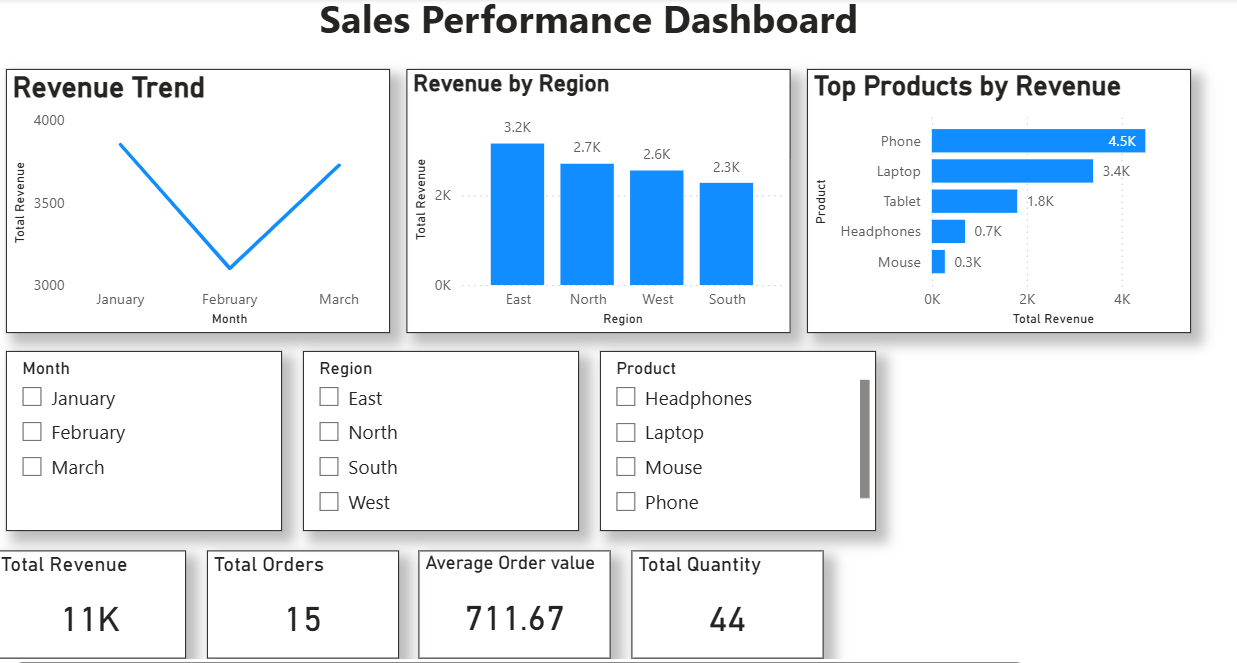

What the dashboard file says about the page in this screenshot:
{"tool":"powerbi","page":{"name":"Page 2","canvas":[1280,720],"ordinal":1},"visuals":[{"type":"lineChart","title":" Revenue Trend","fields":{"Y":["sales.Total Revenue"],"Category":["sales.Month"]},"box":[10,125,320,220],"z":0},{"type":"clusteredColumnChart","title":" Revenue by Region","fields":{"Category":["sales.Region"],"Y":["sales.Total Revenue"]},"box":[343.8,125,320,220],"z":1000},{"type":"barChart","title":"Top  Products by Revenue","fields":{"Category":["sales.Product"],"Y":["sales.Total Revenue"]},"box":[677.5,125,320,220],"z":2000},{"type":"card","title":"Total Revenue","fields":{"Values":["Sum(sales.Revenue)"]},"box":[0,526.2,160,90],"z":3000},{"type":"card","title":"Average Order value","fields":{"Values":["sales.Average Order Value"]},"box":[354.2,526.2,160,90],"z":4000},{"type":"card","title":"Total Orders","fields":{"Values":["CountNonNull(sales.OrderID)"]},"box":[177.1,526.2,160,90],"z":5000},{"type":"slicer","fields":{"Values":["sales.Month"]},"box":[10,360,230,150],"z":6000},{"type":"slicer","fields":{"Values":["sales.Region"]},"box":[257.5,360,230,150],"z":7000},{"type":"slicer","title":"P","fields":{"Values":["sales.Product"]},"box":[505,360,230,150],"z":8000},{"type":"card","title":"Total Quantity","fields":{"Values":["Sum(sales.Quantity)"]},"box":[531.2,526.2,160,90],"z":9000},{"type":"textbox","box":[266.2,55,561.2,53.8],"z":10000}]}

Visuals, with their boxes on the page's 1280x720 design canvas (x1, y1, x2, y2). These are canvas units, not pixel positions in the 1237x663 screenshot, which may show the page scaled, cropped or inside an application window:
" Revenue Trend" lineChart: <box>10,125,330,345</box>
" Revenue by Region" clusteredColumnChart: <box>344,125,664,345</box>
"Top  Products by Revenue" barChart: <box>678,125,998,345</box>
"Total Revenue" card: <box>0,526,160,616</box>
"Average Order value" card: <box>354,526,514,616</box>
"Total Orders" card: <box>177,526,337,616</box>
slicer - sales.Month: <box>10,360,240,510</box>
slicer - sales.Region: <box>258,360,488,510</box>
"P" slicer: <box>505,360,735,510</box>
"Total Quantity" card: <box>531,526,691,616</box>
textbox: <box>266,55,827,109</box>
